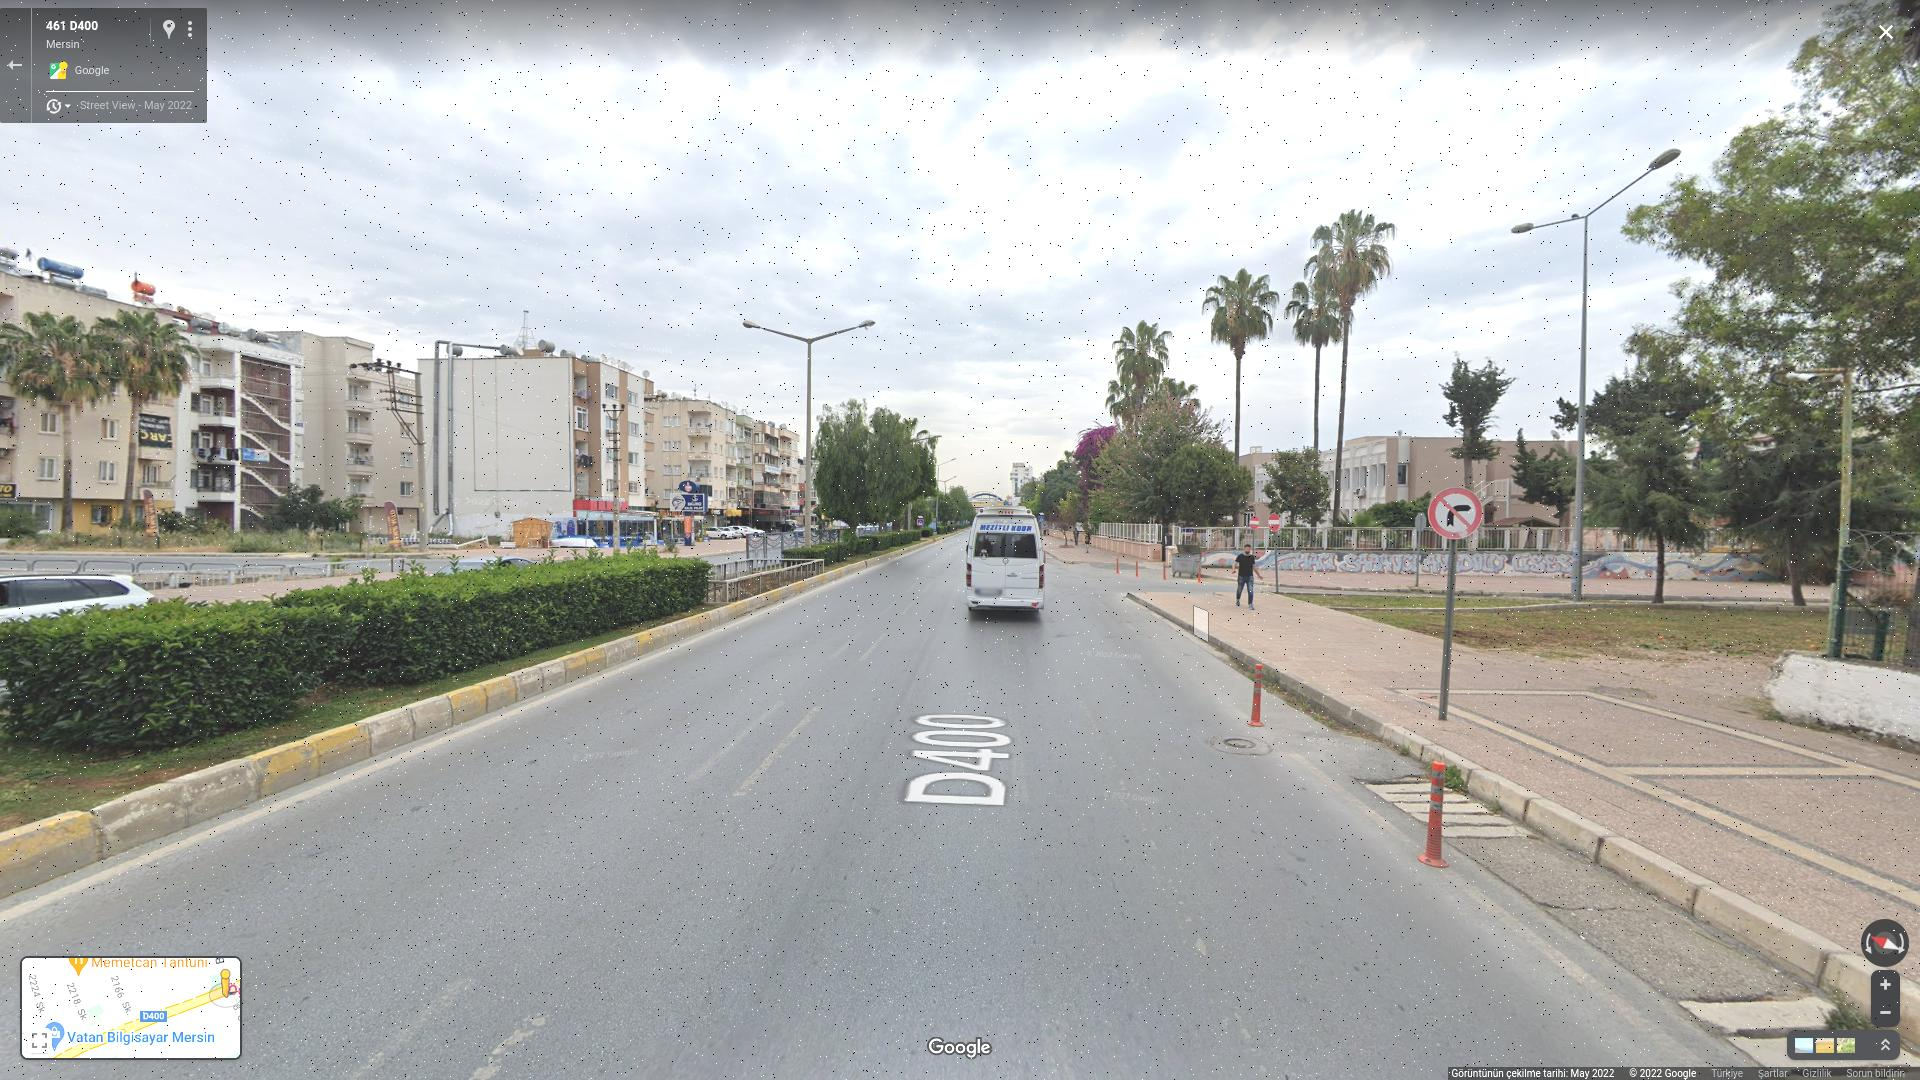rightturnsareforbidden: (1428, 487, 1481, 545)
